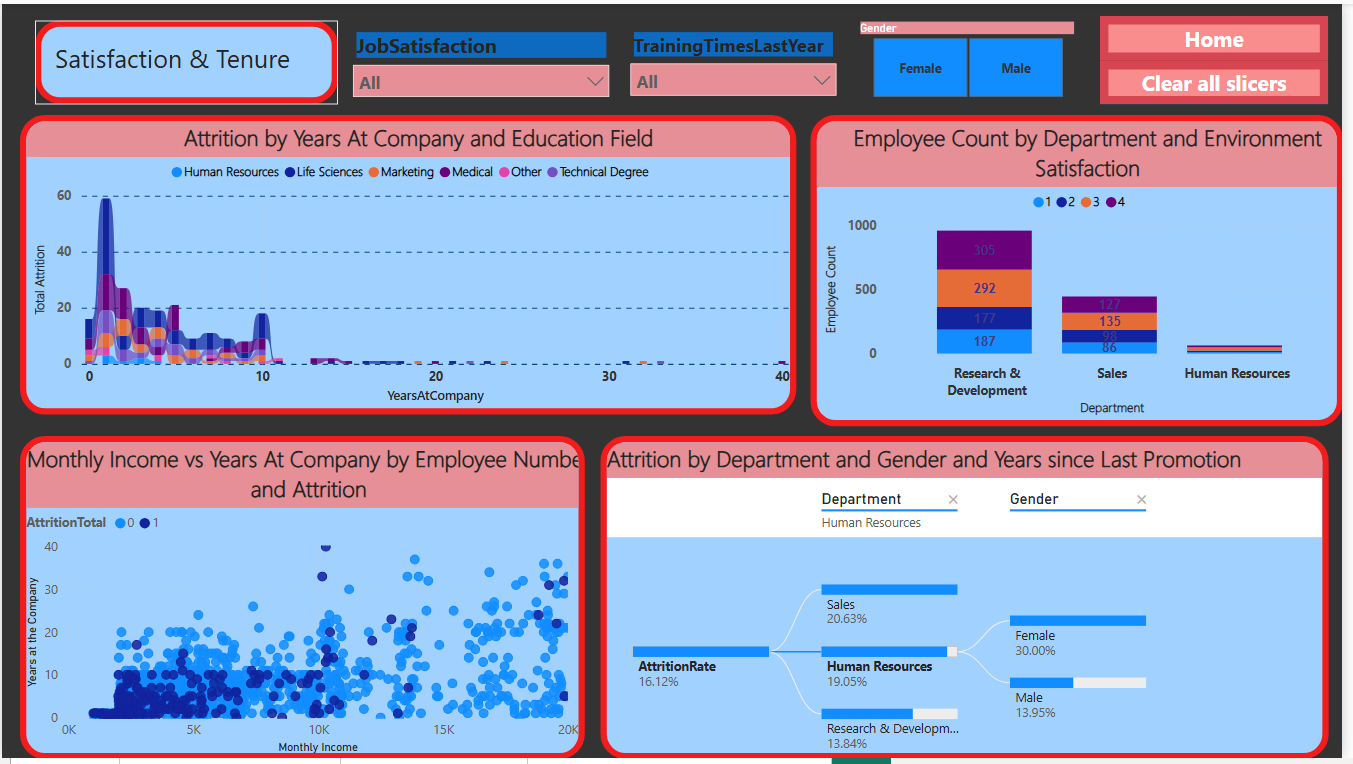

What the dashboard file says about the page in this screenshot:
{"tool":"powerbi","page":{"name":"Satisfaction & Tenure Analysis","canvas":[1280,720],"ordinal":3},"visuals":[{"type":"ribbonChart","title":"Attrition by Years At Company and Education Field","fields":{"Category":["HR-Employee-Attrition.YearsAtCompany"],"Y":["Sum(HR-Employee-Attrition.AttritionTotal)"],"Series":["HR-Employee-Attrition.EducationField"]},"box":[17.5,106.6,741.2,286.3],"z":0},{"type":"decompositionTreeVisual","title":"Attrition by Department and Gender and Years since Last Promotion","fields":{"Analyze":["HR-Employee-Attrition.AttritionRate"],"ExplainBy":["HR-Employee-Attrition.Department","HR-Employee-Attrition.Gender"]},"box":[571,412,695.1,308.6],"z":1000},{"type":"columnChart","title":"Employee Count by Department and Environment Satisfaction","fields":{"Category":["HR-Employee-Attrition.Department"],"Y":["Sum(HR-Employee-Attrition.EmployeeCount)"],"Series":["HR-Employee-Attrition.EnvironmentSatisfaction"]},"box":[771.4,106.6,509,297.4],"z":2000},{"type":"scatterChart","title":"Monthly Income vs Years At Company by Employee Number and Attrition","fields":{"X":["Sum(HR-Employee-Attrition.MonthlyIncome)"],"Y":["Sum(HR-Employee-Attrition.YearsAtCompany)"],"Category":["HR-Employee-Attrition.EmployeeNumber"],"Series":["HR-Employee-Attrition.AttritionTotal"]},"box":[17.5,412,539.2,308.6],"z":3000},{"type":"textbox","box":[31.8,15.9,289.5,79.5],"z":4000},{"type":"slicer","fields":{"Values":["HR-Employee-Attrition.Gender"]},"box":[806.4,11.1,230.6,84.3],"z":5000},{"type":"shape","box":[1048.2,15.9,217.9,38.2],"z":6000},{"type":"actionButton","box":[1048.2,11.1,217.9,42.9],"z":7000},{"type":"shape","box":[1048.2,55.7,217.9,39.8],"z":8000},{"type":"actionButton","box":[1048.2,54.1,217.9,41.4],"z":9000},{"type":"slicer","fields":{"Values":["HR-Employee-Attrition.JobSatisfaction"]},"box":[325.6,21.2,265,74.2],"z":10000},{"type":"slicer","fields":{"Values":["HR-Employee-Attrition.TrainingTimesLastYear"]},"box":[590.5,21.2,216.5,74.2],"z":13000}]}

Visuals, with their boxes in screenshot pixels (x1, y1, x2, y2), scaled from the page's 1280x720 canvas onto the 1353x764 screenshot:
"Attrition by Years At Company and Education Field" ribbonChart: (18, 113, 802, 417)
"Attrition by Department and Gender and Years since Last Promotion" decompositionTreeVisual: (604, 437, 1338, 763)
"Employee Count by Department and Environment Satisfaction" columnChart: (815, 113, 1352, 429)
"Monthly Income vs Years At Company by Employee Number and Attrition" scatterChart: (18, 437, 588, 763)
textbox: (34, 17, 340, 101)
slicer - HR-Employee-Attrition.Gender: (852, 12, 1096, 101)
shape: (1108, 17, 1338, 57)
actionButton: (1108, 12, 1338, 57)
shape: (1108, 59, 1338, 101)
actionButton: (1108, 57, 1338, 101)
slicer - HR-Employee-Attrition.JobSatisfaction: (344, 22, 624, 101)
slicer - HR-Employee-Attrition.TrainingTimesLastYear: (624, 22, 853, 101)
